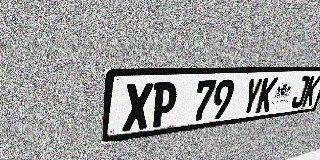7: (190, 80, 217, 122)
9: (210, 79, 236, 120)
J: (290, 76, 311, 108)
K: (255, 77, 279, 113), (301, 76, 320, 107)
P: (149, 82, 179, 128)
X: (122, 83, 153, 132)
Y: (239, 78, 264, 115)
